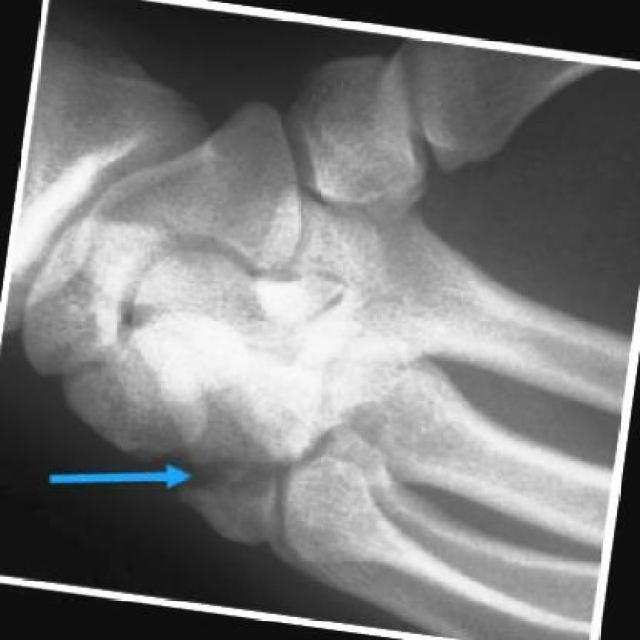Fracture: (163, 429, 306, 520)
